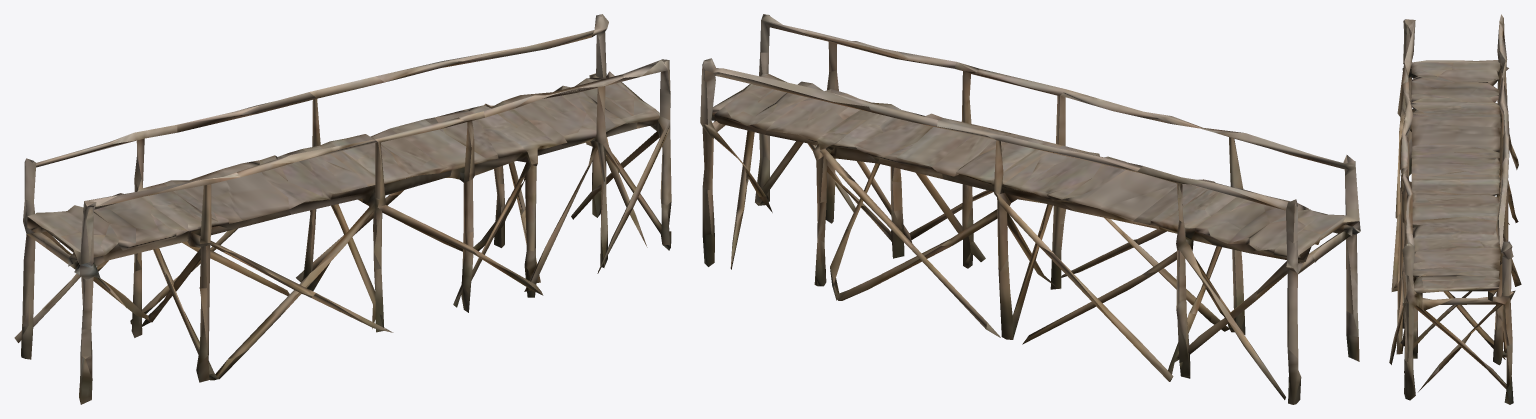
File: jembatan_bambu_panjang_lod2.glb
3 renders of one model, left to right at view 1: azimuth 30°, elevation 25°; view 2: azimuth 150°, elevation 25°; view 3: azimuth 270°, elevation 25°, orthographic. The views are drawn at different scales.
Parts seen in each view (by area): view 1: tripo_node_6cc7eeb1-c368-4c48-8c2e-7ad877a7bdf7; view 2: tripo_node_6cc7eeb1-c368-4c48-8c2e-7ad877a7bdf7; view 3: tripo_node_6cc7eeb1-c368-4c48-8c2e-7ad877a7bdf7.
Boxes of the visible parts, bbox=[...] form: tripo_node_6cc7eeb1-c368-4c48-8c2e-7ad877a7bdf7: bbox=[14, 14, 671, 404]; tripo_node_6cc7eeb1-c368-4c48-8c2e-7ad877a7bdf7: bbox=[700, 14, 1360, 404]; tripo_node_6cc7eeb1-c368-4c48-8c2e-7ad877a7bdf7: bbox=[1389, 14, 1521, 404].
Bounding box in the file's own units: 0.9958 × 0.333 × 0.237.
Materials: 1 (1 with a texture image).
